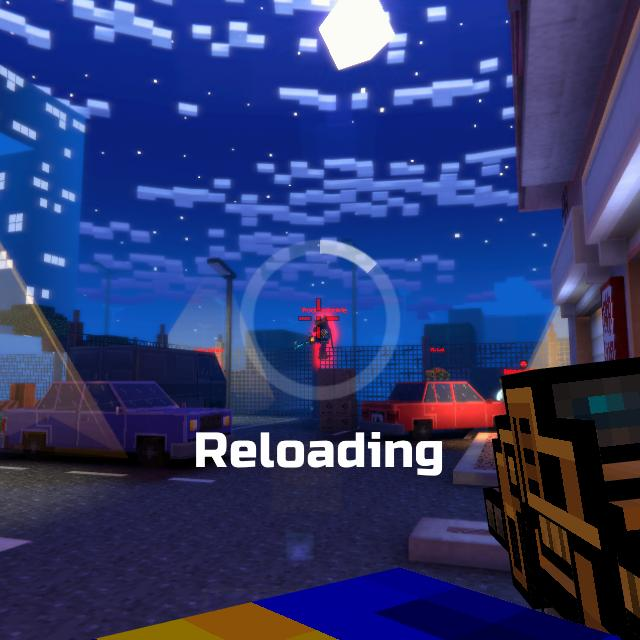Enemy: (313, 318, 331, 359)
